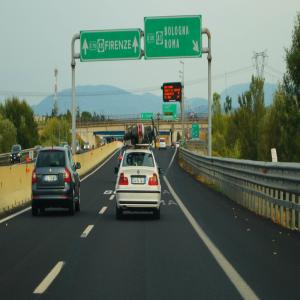Vehicle-registration-plate: (132, 176, 146, 186), (44, 176, 58, 183)
